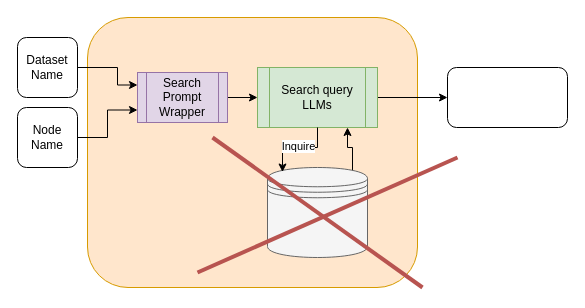
Some shapes in this 585 by 308 pixel diagram are drawn without their labels. Here are the shapes that lost their labels. From the top down, the centre of each, then its label:
the point at 507,97: Output
the point at 317,212: RAG Dataset
